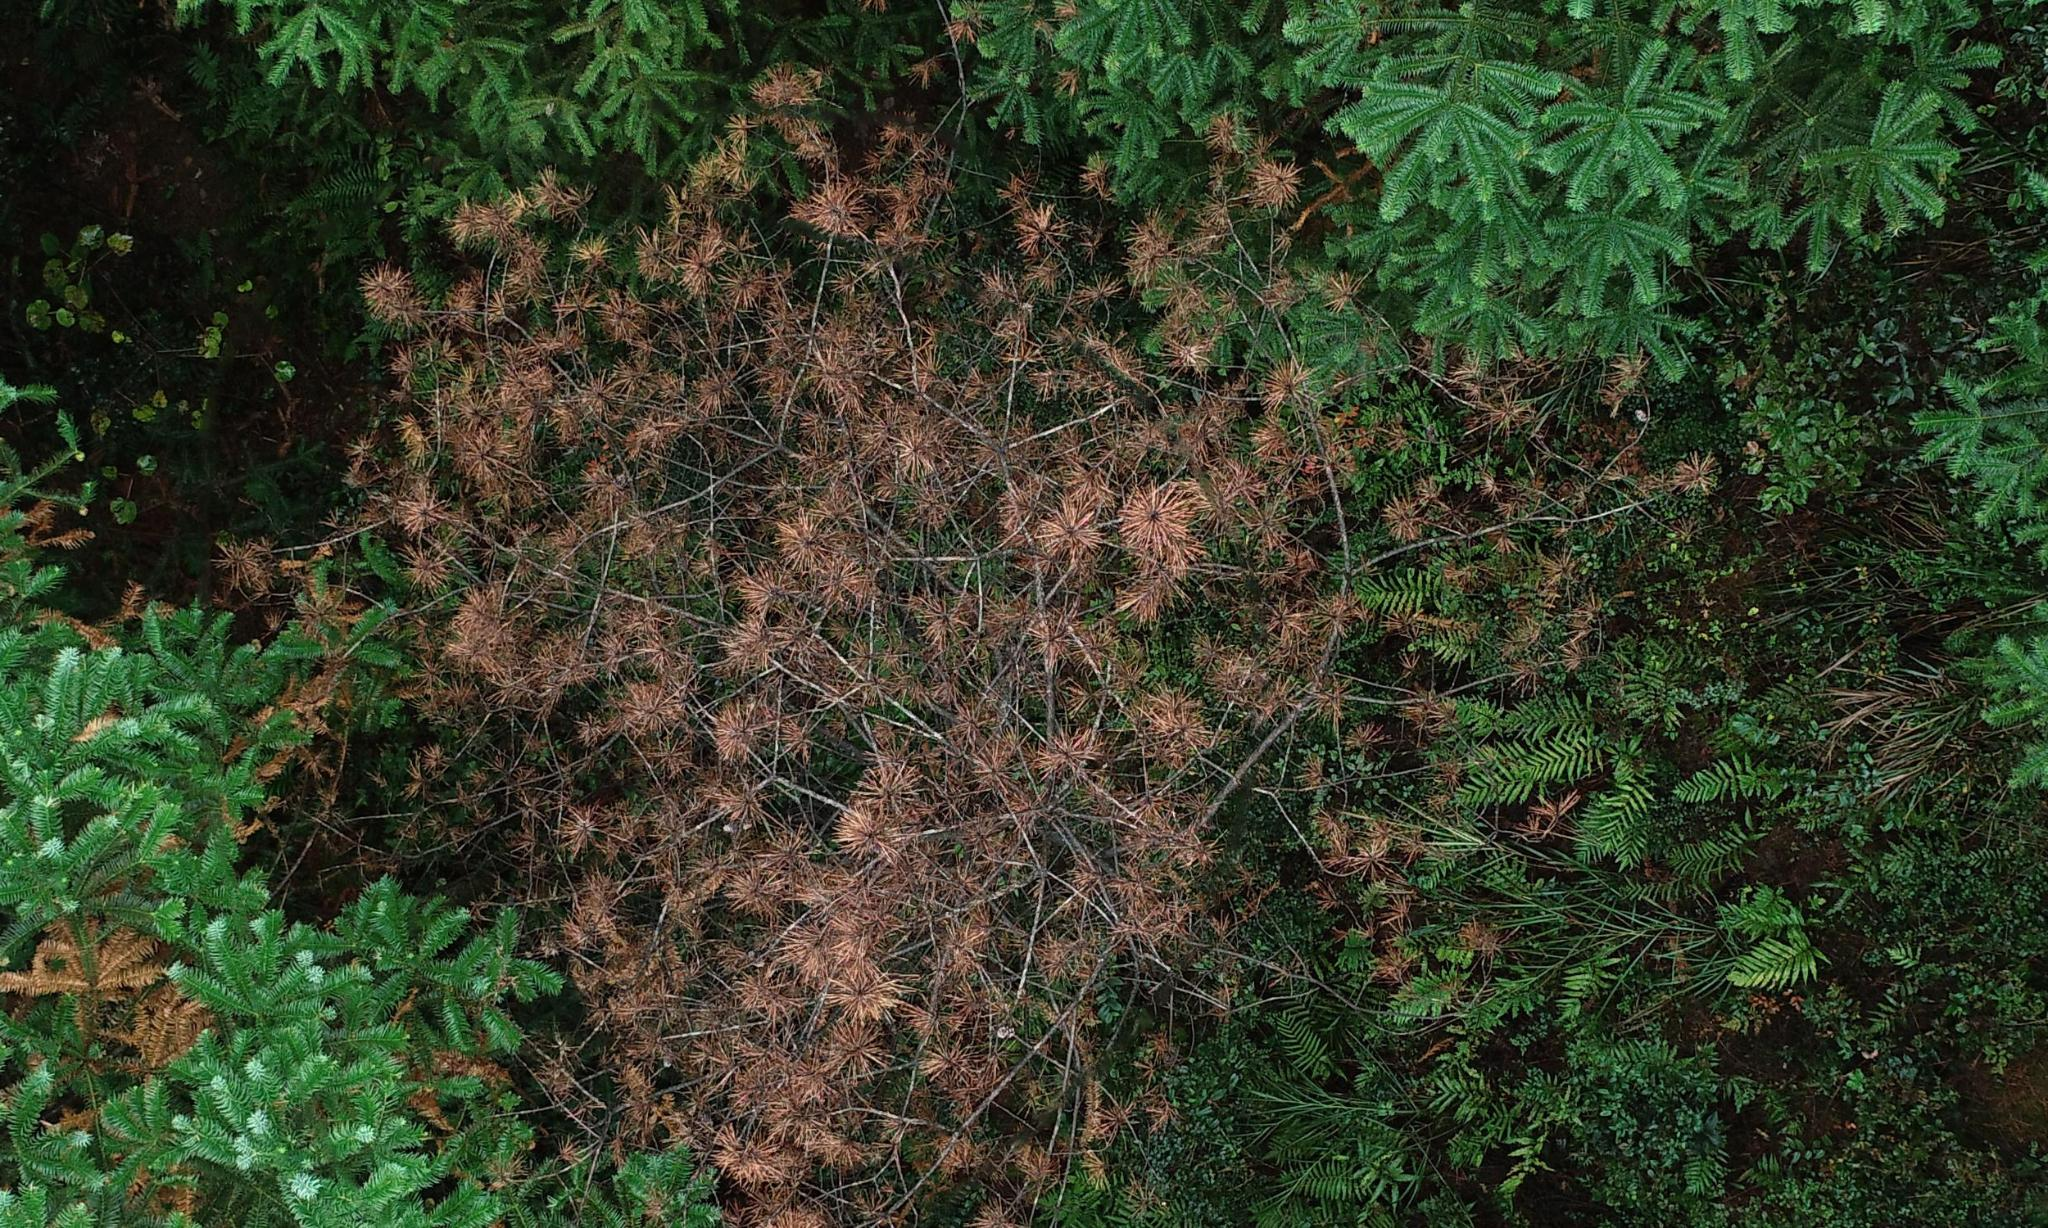heavy: (314, 161, 1408, 1189)
